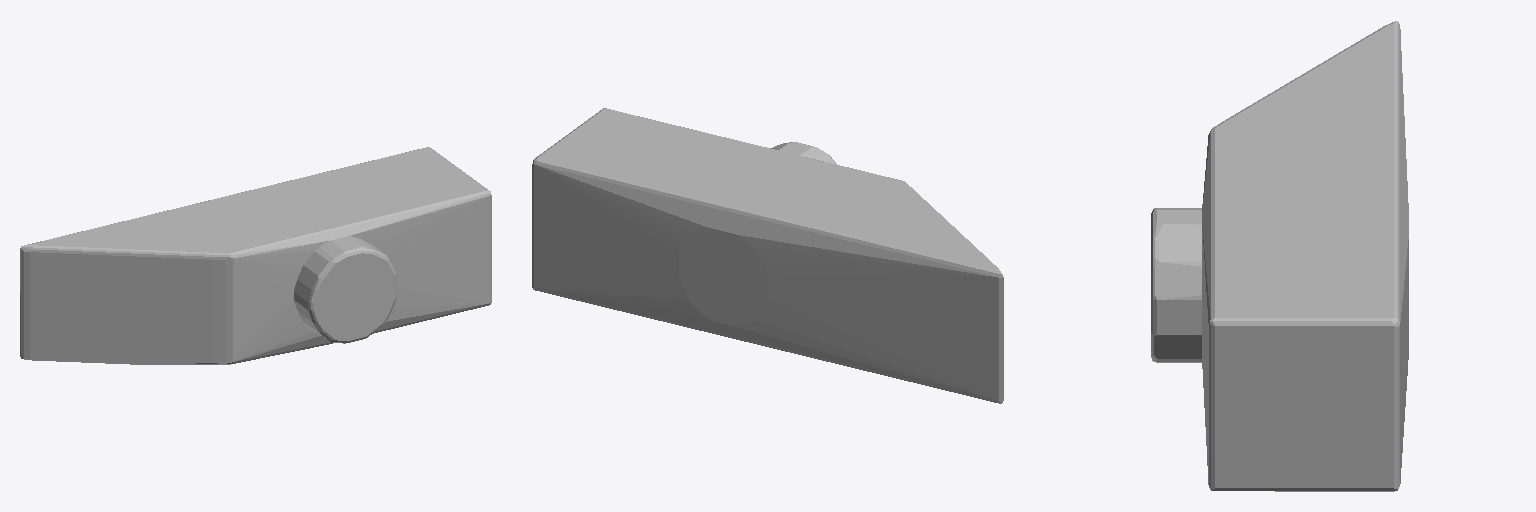
robot.urdf — root:
<robot name="root">
  <link name="link_coacd_convex_piece_0">
    <inertial>
      <origin xyz="0 0 0" rpy="0 0 0"/>
      <inertia ixx="3.59E-03" ixy="-2.06E-03" ixz="1.15E-05" iyy="2.32E-04" iyz="2.50E-05" izz="3.59E-03"/>
    </inertial>
    <visual>
      <origin xyz="0 0 0" rpy="0 0 0"/>
      <geometry>
        <mesh filename="coacd_convex_piece_0.obj" scale="1.0000E+00 1.0000E+00 1.0000E+00"/>
      </geometry>
      <material name="">
        <color rgba="7.50E-01 7.50E-01 7.50E-01 1"/>
      </material>
    </visual>
    <collision>
      <origin xyz="0 0 0" rpy="0 0 0"/>
      <geometry>
        <mesh filename="coacd_convex_piece_0.obj" scale="1.0000E+00 1.0000E+00 1.0000E+00"/>
      </geometry>
    </collision>
  </link>
  <link name="link_coacd_convex_piece_1">
    <inertial>
      <origin xyz="0 0 0" rpy="0 0 0"/>
      <inertia ixx="2.18E-02" ixy="2.05E-03" ixz="-1.89E-06" iyy="5.43E-03" iyz="1.82E-05" izz="2.63E-02"/>
    </inertial>
    <visual>
      <origin xyz="0 0 0" rpy="0 0 0"/>
      <geometry>
        <mesh filename="coacd_convex_piece_1.obj" scale="1.0000E+00 1.0000E+00 1.0000E+00"/>
      </geometry>
      <material name="">
        <color rgba="7.50E-01 7.50E-01 7.50E-01 1"/>
      </material>
    </visual>
    <collision>
      <origin xyz="0 0 0" rpy="0 0 0"/>
      <geometry>
        <mesh filename="coacd_convex_piece_1.obj" scale="1.0000E+00 1.0000E+00 1.0000E+00"/>
      </geometry>
    </collision>
  </link>
  <joint name="link_coacd_convex_piece_1_joint" type="fixed">
    <origin xyz="0 0 0" rpy="0 0 0"/>
    <parent link="link_coacd_convex_piece_0"/>
    <child link="link_coacd_convex_piece_1"/>
  </joint>
  <link name="link_coacd_convex_piece_2">
    <inertial>
      <origin xyz="0 0 0" rpy="0 0 0"/>
      <inertia ixx="1.79E-03" ixy="2.27E-04" ixz="-3.61E-06" iyy="4.35E-05" iyz="2.40E-05" izz="1.81E-03"/>
    </inertial>
    <visual>
      <origin xyz="0 0 0" rpy="0 0 0"/>
      <geometry>
        <mesh filename="coacd_convex_piece_2.obj" scale="1.0000E+00 1.0000E+00 1.0000E+00"/>
      </geometry>
      <material name="">
        <color rgba="7.50E-01 7.50E-01 7.50E-01 1"/>
      </material>
    </visual>
    <collision>
      <origin xyz="0 0 0" rpy="0 0 0"/>
      <geometry>
        <mesh filename="coacd_convex_piece_2.obj" scale="1.0000E+00 1.0000E+00 1.0000E+00"/>
      </geometry>
    </collision>
  </link>
  <joint name="link_coacd_convex_piece_2_joint" type="fixed">
    <origin xyz="0 0 0" rpy="0 0 0"/>
    <parent link="link_coacd_convex_piece_1"/>
    <child link="link_coacd_convex_piece_2"/>
  </joint>
</robot>

--- Facts derived from the render (not from the file) ---
The picture shows the robot from 3 angles, left to right: view 1: azimuth 30°, elevation 25°; view 2: azimuth 150°, elevation 25°; view 3: azimuth 270°, elevation 25°; orthographic projection.
Robot: root — 3 links, 2 joints (2 fixed); root link link_coacd_convex_piece_0; default pose: every joint at zero.
Visible links, largest first — view 1: link_coacd_convex_piece_1, link_coacd_convex_piece_2; view 2: link_coacd_convex_piece_1, link_coacd_convex_piece_2; view 3: link_coacd_convex_piece_1, link_coacd_convex_piece_2.
Boxes of the visible links, x1,y1,x2,y2 form: link_coacd_convex_piece_1: (20,147,491,364); link_coacd_convex_piece_2: (294,236,396,343); link_coacd_convex_piece_1: (532,108,1003,403); link_coacd_convex_piece_2: (771,142,836,164); link_coacd_convex_piece_1: (1202,21,1408,491); link_coacd_convex_piece_2: (1151,208,1201,362).
Bounding box of the posed robot: 1.08 × 0.3915 × 0.2911 m (x, y, z).
2 mesh visuals loaded from 3 distinct referenced files (2 OBJ); not drawn: 1 (reference not matched to a file when rendering).